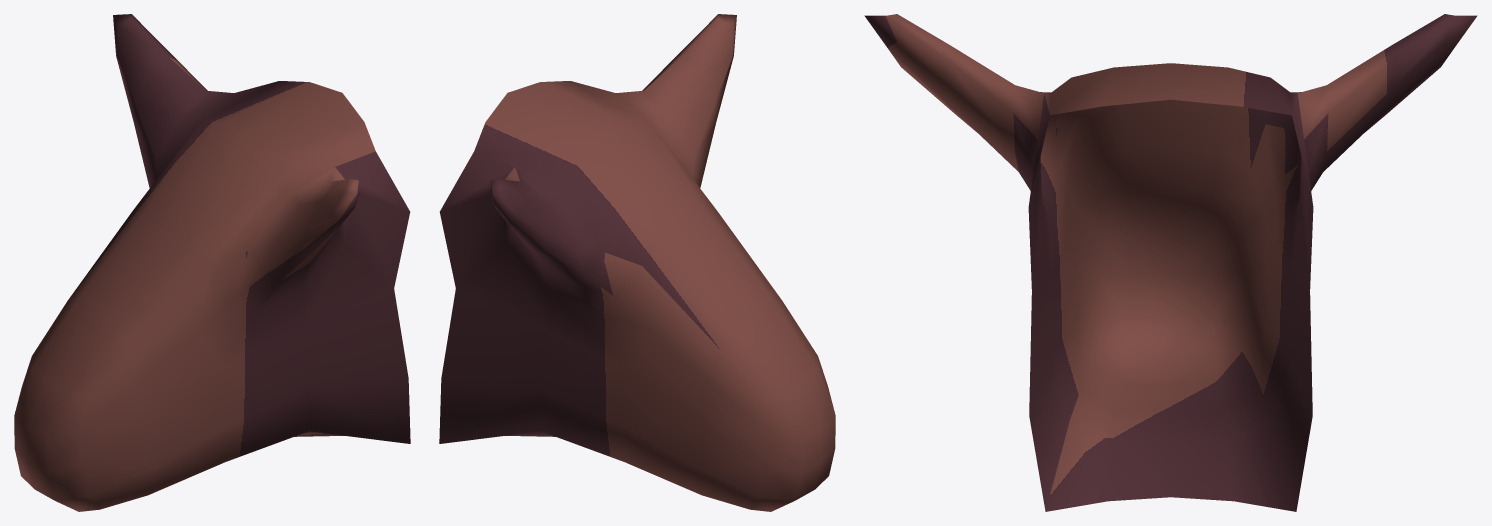
File: Moose Head.fbx
The picture shows the model from 3 angles, left to right: view 1: azimuth 30°, elevation 25°; view 2: azimuth 150°, elevation 25°; view 3: azimuth 270°, elevation 25°; orthographic projection. The views are drawn at different scales.
Visible parts, largest first — view 1: Moose Head; view 2: Moose Head; view 3: Moose Head.
Part boxes in pixels (x1,y1,x2,y2): Moose Head: [14, 14, 410, 511]; Moose Head: [439, 14, 835, 511]; Moose Head: [864, 14, 1477, 511].
Bounding box in the file's own units: 1.72 × 2.18 × 1.77.
